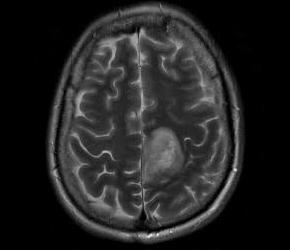Tumour-Meningioma: (129, 122, 196, 198)
